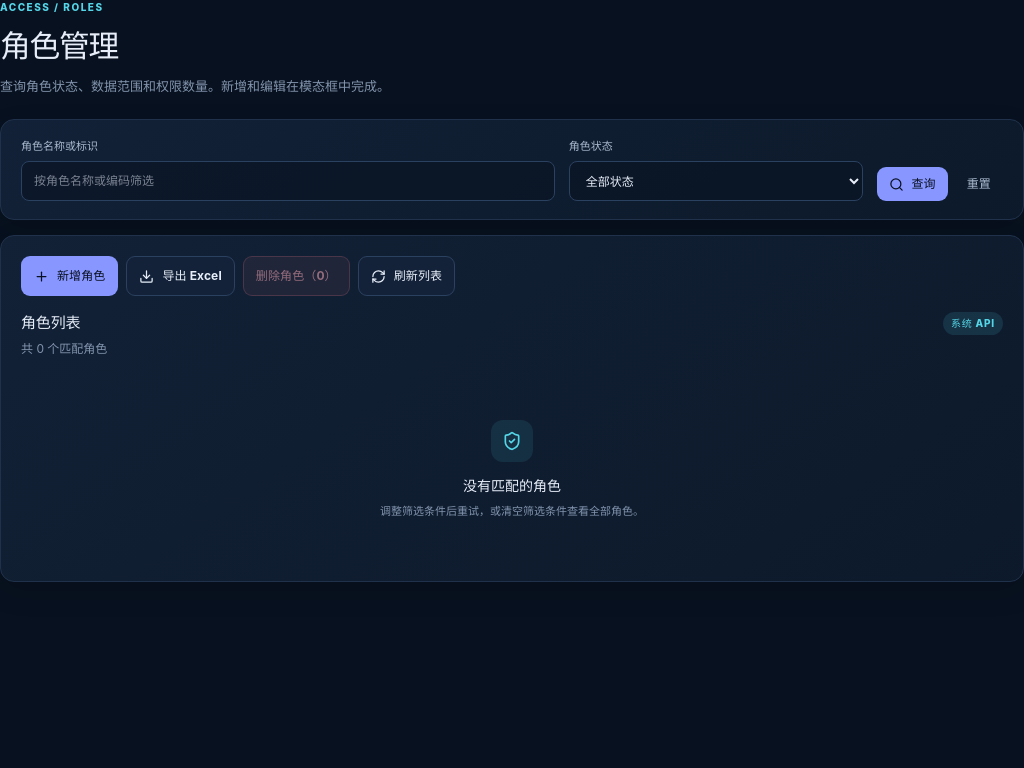
Test case: RolesPage › 权限目录读取失败时阻止保存，重试成功后允许提交
Expected: the text "没有匹配的角色" is shown, [463,475,561,496]
What coordinates should you click on to do the following:
click the button "新增角色"
I would click on:
 (70, 276)
Its box is [21,256,118,296].
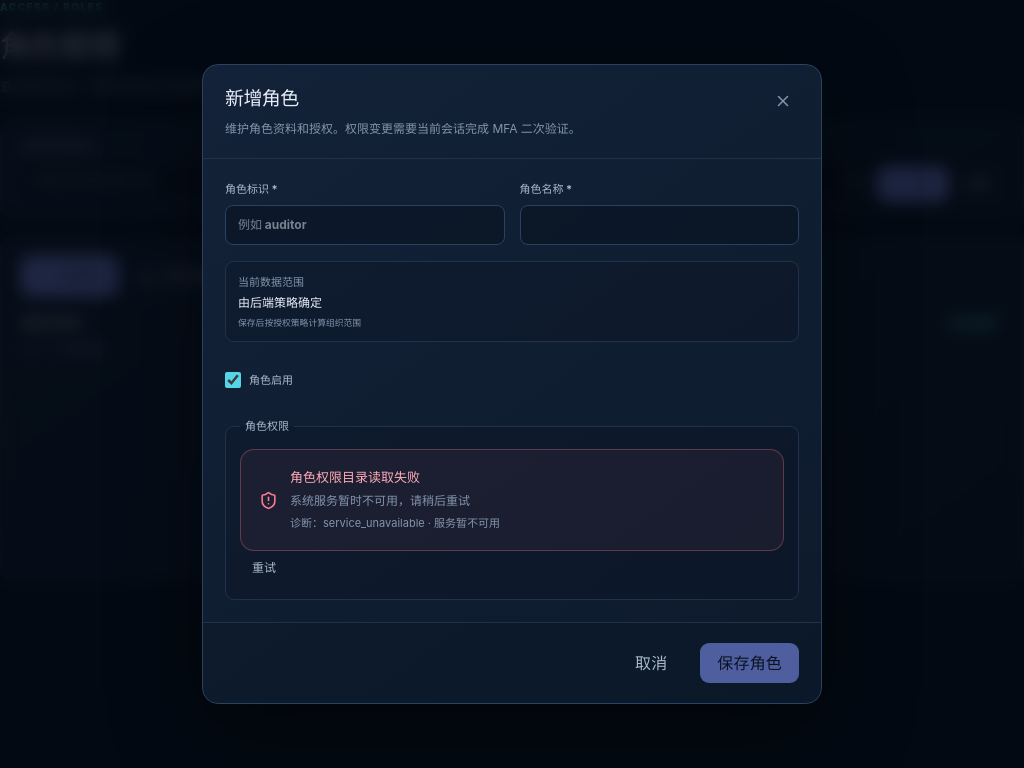
Result: the text "角色权限目录读取失败" is shown at [290,469,420,485]
Result: the button "保存角色" is disabled at [700,643,799,683]
What coordinates should you click on to do the following:
click the button "重试"
I would click on:
 (264, 568)
Its box is [240,551,288,585].
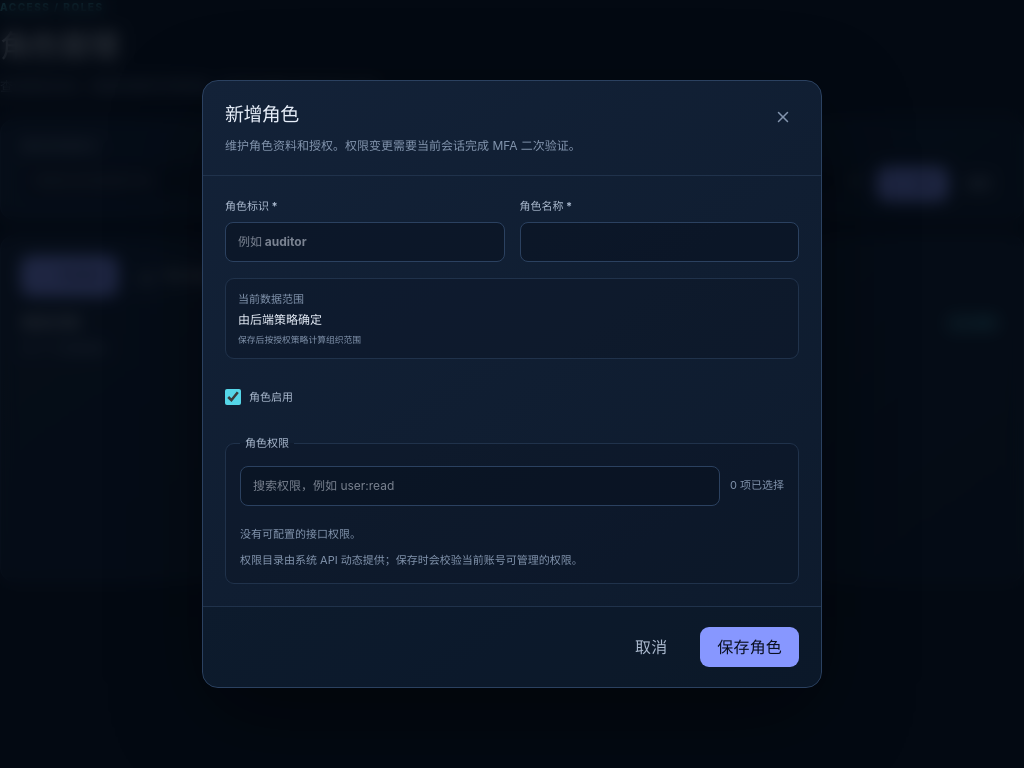
Result: the button "保存角色" is enabled at [700,627,799,667]
